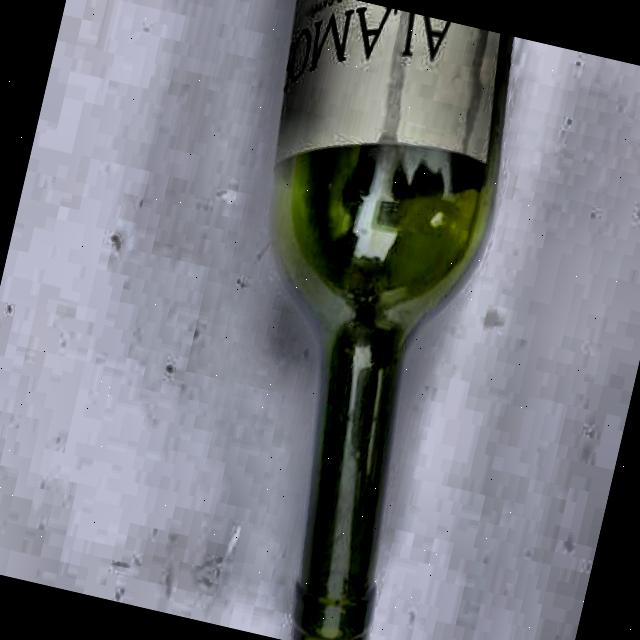glass: (146, 0, 525, 640)
